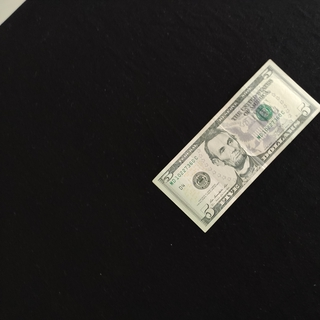5USDFront: (151, 58, 320, 233)
